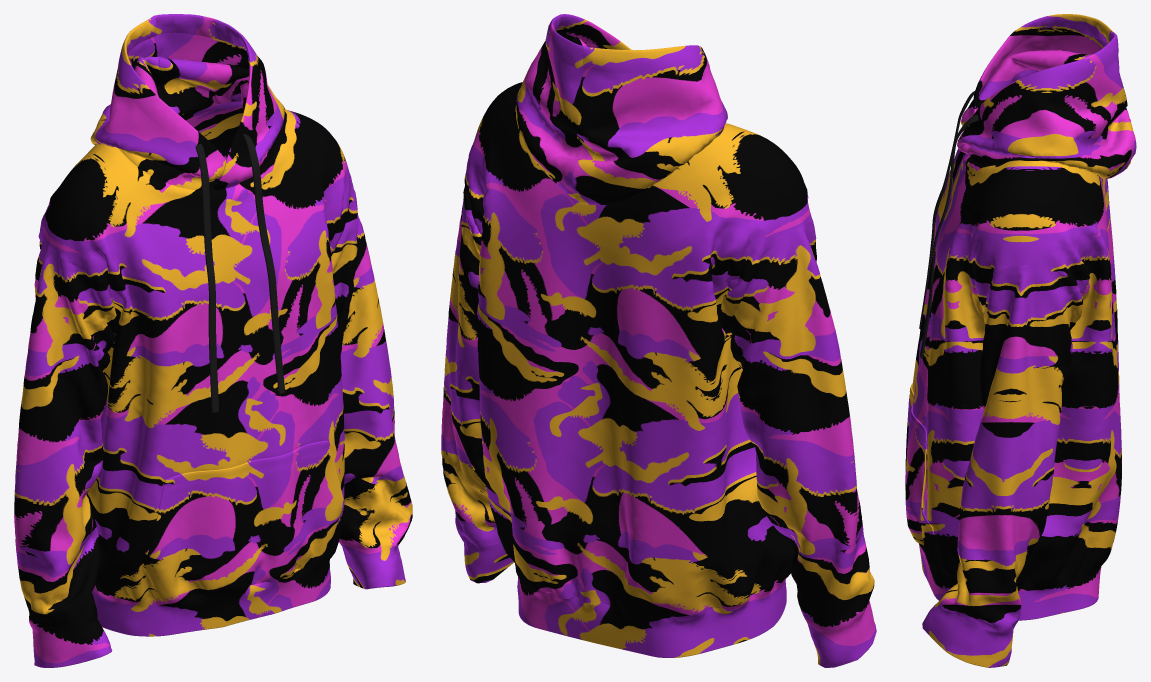
Rendered from la-leakers.glb.
3 renders of one model, left to right at view 1: azimuth 30°, elevation 25°; view 2: azimuth 150°, elevation 25°; view 3: azimuth 270°, elevation 25°, orthographic. The views are drawn at different scales.
Visible parts, largest first — view 1: hoodie front_Node, hoodie sleeve_r_Node, hoodie pocket_Node, hoodie sleeve_l_Node, hoodie waistband_f_Node, hoodie hood_l_Node, hoodie hood_r_Node, hoodie back_Node, hoodie casing_upper_r_Node, hoodie cuff_r_Node, hoodie casing_upper_l_Node, hoodie cuff_l_Node (+4 smaller); view 2: hoodie back_Node, hoodie sleeve_r_Node, hoodie hood_r_Node, hoodie sleeve_l_Node, hoodie waistband_b_Node, hoodie hood_l_Node, hoodie front_Node, hoodie casing_upper_r_Node, hoodie cuff_r_Node, hoodie cuff_l_Node, hoodie casing_under_l_Node, hoodie casing_upper_l_Node (+1 smaller); view 3: hoodie sleeve_l_Node, hoodie back_Node, hoodie front_Node, hoodie hood_l_Node, hoodie hood_r_Node, hoodie cuff_l_Node, hoodie casing_upper_l_Node, hoodie pocket_Node, hoodie waistband_b_Node, hoodie casing_under_r_Node, hoodie drawstring_l_Node, hoodie waistband_f_Node (+2 smaller).
Part boxes in pixels (bbox=[...]): hoodie front_Node: bbox=[47, 109, 355, 601]; hoodie sleeve_r_Node: bbox=[14, 242, 117, 628]; hoodie pocket_Node: bbox=[143, 440, 344, 603]; hoodie sleeve_l_Node: bbox=[330, 193, 412, 550]; hoodie waistband_f_Node: bbox=[92, 557, 331, 636]; hoodie hood_l_Node: bbox=[154, 32, 284, 185]; hoodie hood_r_Node: bbox=[90, 36, 217, 190]; hoodie back_Node: bbox=[38, 102, 242, 504]; hoodie casing_upper_r_Node: bbox=[117, 17, 226, 189]; hoodie cuff_r_Node: bbox=[31, 613, 112, 667]; hoodie casing_upper_l_Node: bbox=[160, 14, 263, 189]; hoodie cuff_l_Node: bbox=[343, 545, 405, 589]; hoodie back_Node: bbox=[463, 88, 796, 619]; hoodie sleeve_r_Node: bbox=[720, 221, 874, 631]; hoodie hood_r_Node: bbox=[572, 67, 727, 204]; hoodie sleeve_l_Node: bbox=[441, 190, 500, 546]; hoodie waistband_b_Node: bbox=[510, 557, 770, 657]; hoodie hood_l_Node: bbox=[515, 32, 594, 202]; hoodie front_Node: bbox=[493, 82, 812, 588]; hoodie casing_upper_r_Node: bbox=[583, 45, 709, 73]; hoodie cuff_r_Node: bbox=[807, 600, 876, 667]; hoodie cuff_l_Node: bbox=[462, 539, 514, 583]; hoodie casing_under_l_Node: bbox=[551, 14, 631, 49]; hoodie casing_upper_l_Node: bbox=[546, 14, 630, 68]; hoodie sleeve_l_Node: bbox=[941, 265, 1085, 633]; hoodie back_Node: bbox=[1016, 160, 1121, 585]; hoodie front_Node: bbox=[912, 148, 1040, 575]; hoodie hood_l_Node: bbox=[957, 57, 1136, 178]; hoodie hood_r_Node: bbox=[960, 30, 1135, 161]; hoodie cuff_l_Node: bbox=[922, 595, 1015, 667]; hoodie casing_upper_l_Node: bbox=[959, 34, 1118, 137]; hoodie pocket_Node: bbox=[905, 383, 935, 563]; hoodie waistband_b_Node: bbox=[1017, 562, 1104, 620]; hoodie casing_under_r_Node: bbox=[974, 14, 1114, 113]; hoodie drawstring_l_Node: bbox=[920, 114, 978, 358]; hoodie waistband_f_Node: bbox=[918, 543, 957, 600].
Size of the model in its own units: 0.6324 by 0.9004 by 0.339.
2 materials, 1 textured.
